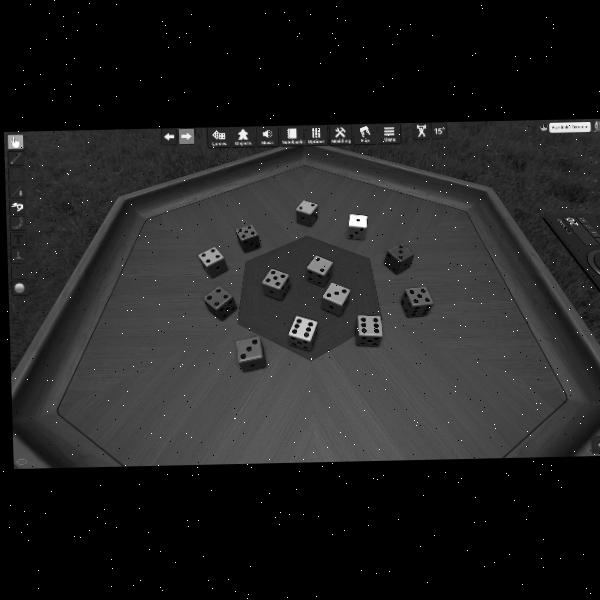d6: (203, 286, 236, 321), (288, 316, 319, 351), (236, 336, 266, 371), (321, 281, 351, 316), (403, 286, 435, 318), (261, 268, 291, 302), (198, 246, 227, 279), (355, 314, 383, 346), (384, 243, 412, 274), (306, 255, 333, 287), (236, 223, 261, 252), (295, 200, 318, 227), (347, 213, 367, 239)
